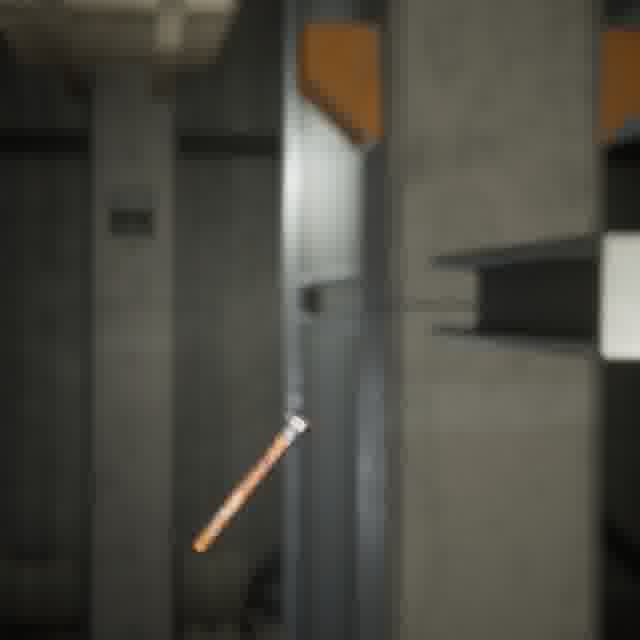bolt: (187, 404, 318, 558)
